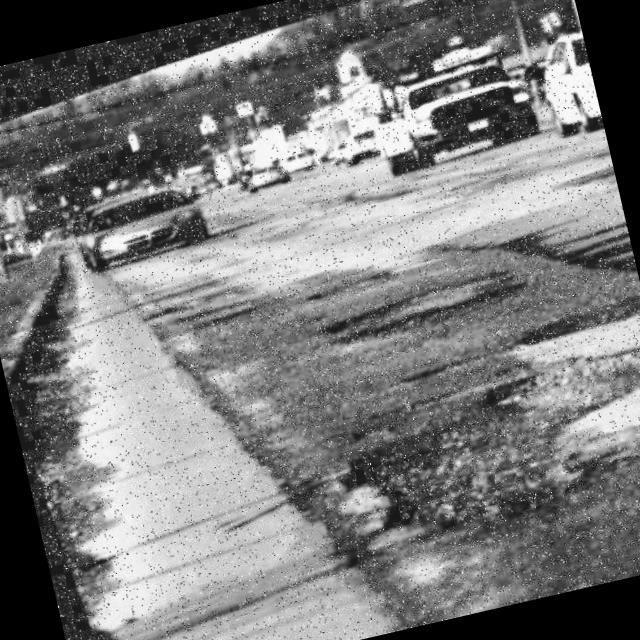Pothole: (303, 308, 640, 565), (298, 242, 528, 358), (498, 279, 640, 357)
